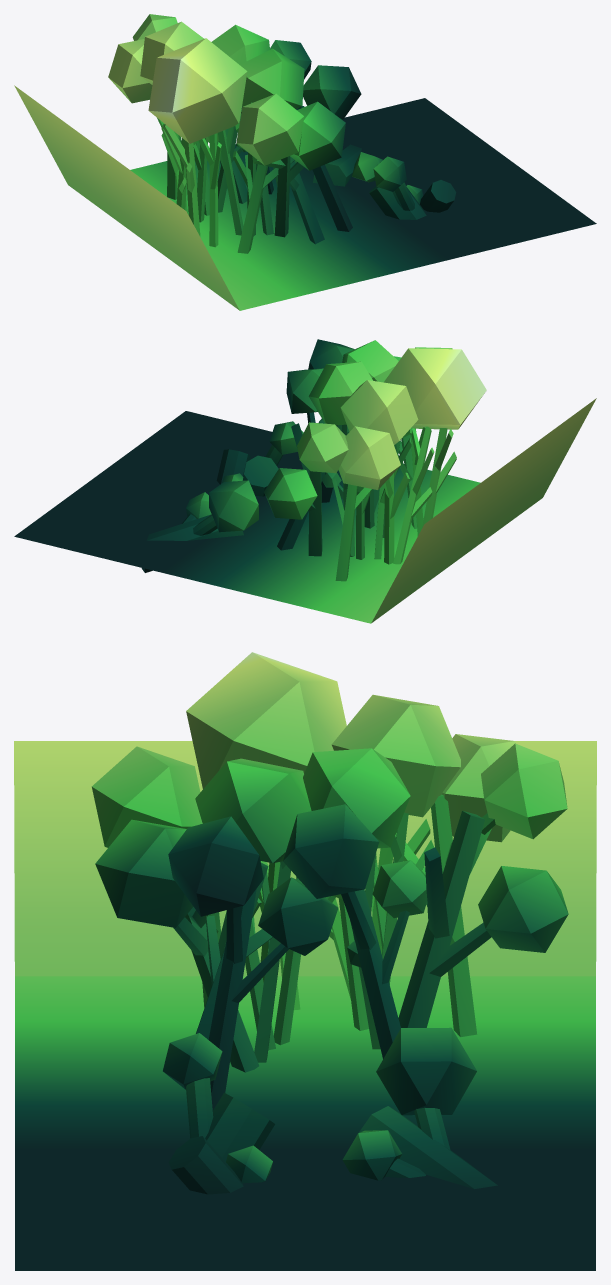
File: lev_10.fbx
3 renders of one model, top to bottom at view 1: azimuth 30°, elevation 25°; view 2: azimuth 150°, elevation 25°; view 3: azimuth 270°, elevation 25°, orthographic. The views are drawn at different scales.
Parts seen in each view (by area): view 1: lev_11; view 2: lev_11; view 3: lev_11.
Part boxes in pixels (<box>): lev_11: <box>14,14,596,310</box>; lev_11: <box>14,339,596,623</box>; lev_11: <box>14,652,596,1270</box>.
Size of the model in its own units: 13822 by 7432 by 10051.
1 material, 1 textured.
